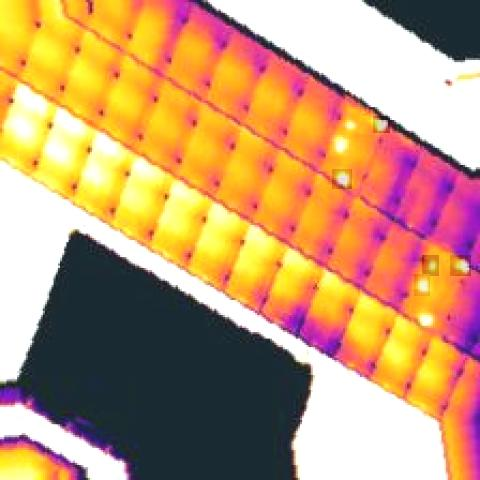fault: (450, 255, 471, 276), (332, 169, 352, 189), (330, 135, 349, 156), (422, 255, 439, 276), (414, 274, 430, 296), (418, 311, 435, 330), (373, 116, 390, 133), (343, 118, 356, 135)
